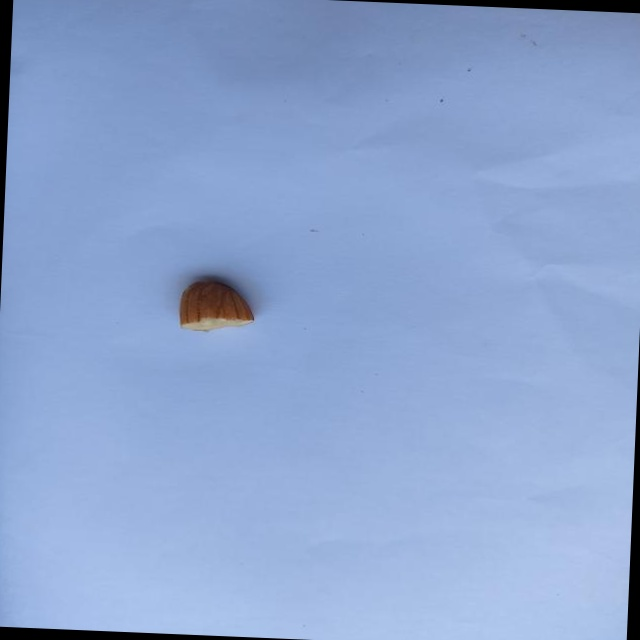grade4: (171, 272, 265, 338)
